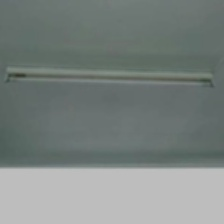light_bulb: (3, 72, 215, 89)
